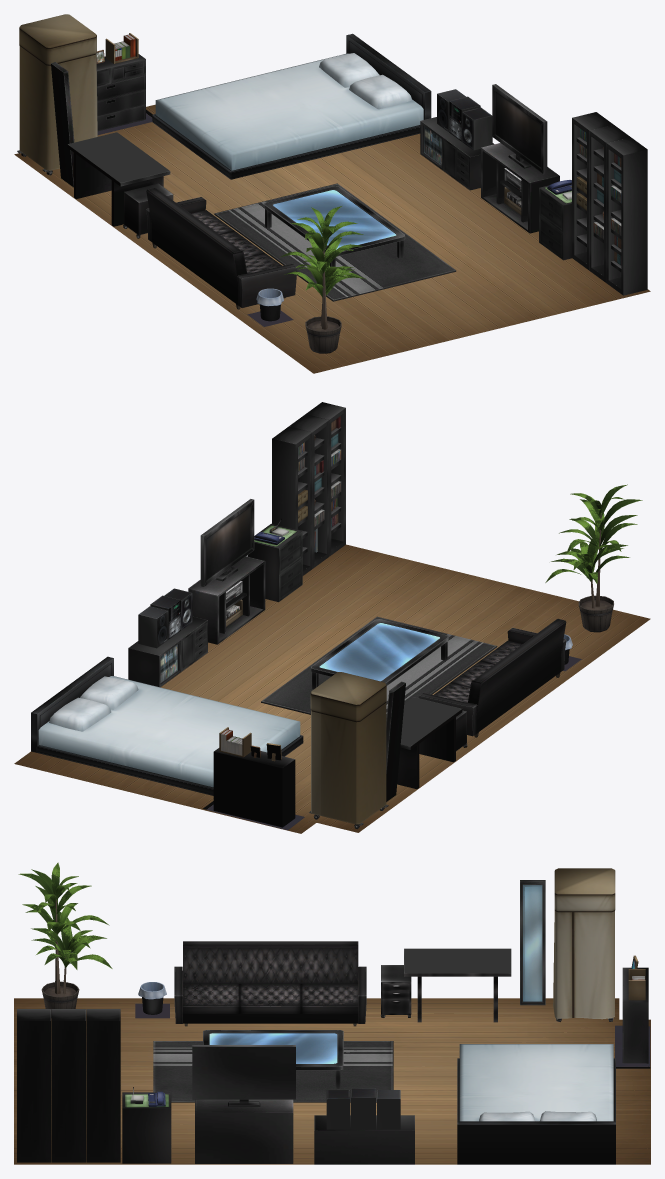
Rendered from Bedroom 1 NoWall.fbx.
The picture shows the model from 3 angles, top to bottom: view 1: azimuth 30°, elevation 25°; view 2: azimuth 150°, elevation 25°; view 3: azimuth 270°, elevation 25°; orthographic projection. The views are drawn at different scales.
Visible parts, largest first — view 1: Body; view 2: Body; view 3: Body.
Part boxes in pixels (left/top/right/bottom): Body: left=14, top=14, right=650, bottom=373; Body: left=14, top=402, right=650, bottom=833; Body: left=14, top=862, right=650, bottom=1164.
Size of the model in its own units: 587 by 235 by 945.
